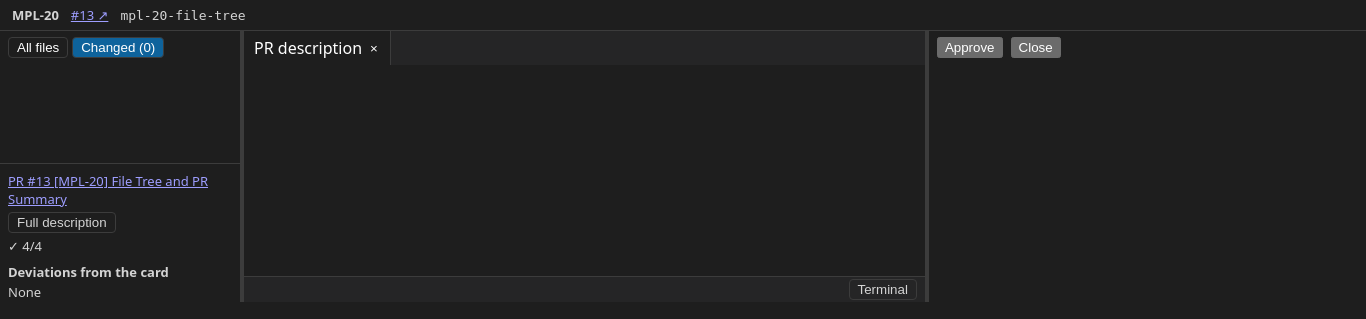
Test: CardTab › a failed Approve with a plain error shows only the message
Step 1. Click the button "Approve" → [970, 48], box [937, 37, 1003, 58]
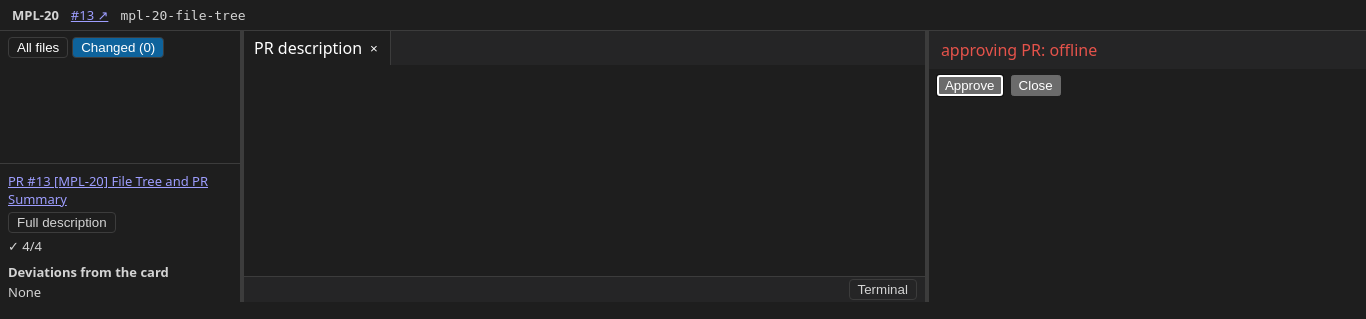
Check: the message reads "approving PR: offline", box [941, 39, 1097, 61]
